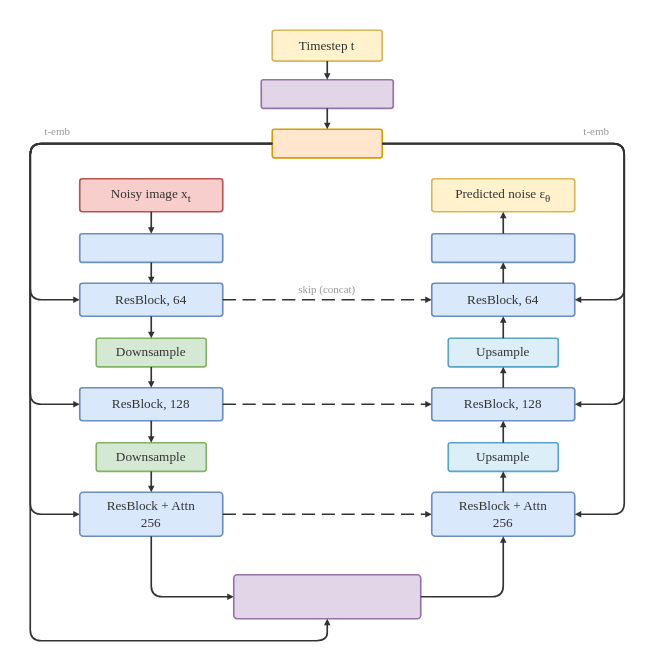
Some shapes in this 653 by 670 pixel diagram are drawn without their labels. Here are the shapes that lost their labels. From the top down, the centre of each, then its label:
[327,93]: Sinusoidal Emb.
[327,143]: MLP
[150,247]: Conv 3x3
[502,247]: GN, SiLU, Conv 3x3
[326,596]: Middle Block ResBlock, Attn, ResBlock
